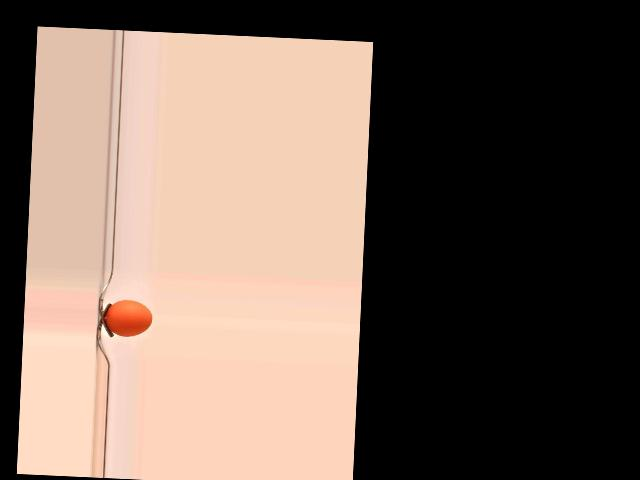egg: (104, 298, 152, 337)
